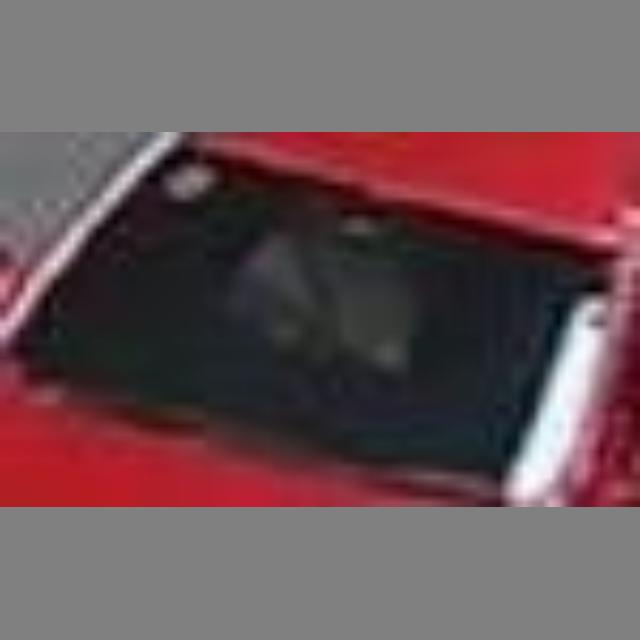pakai: (196, 192, 452, 379)
